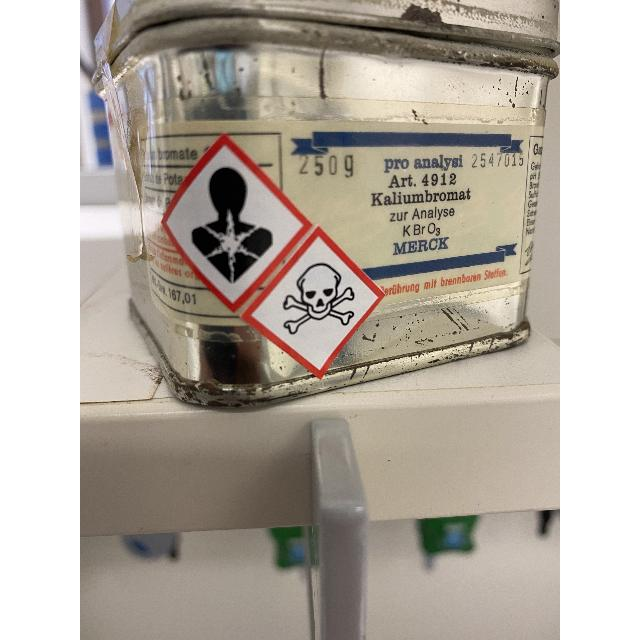acute toxicity: (282, 262, 356, 340)
serious health hazard: (190, 166, 274, 284)
